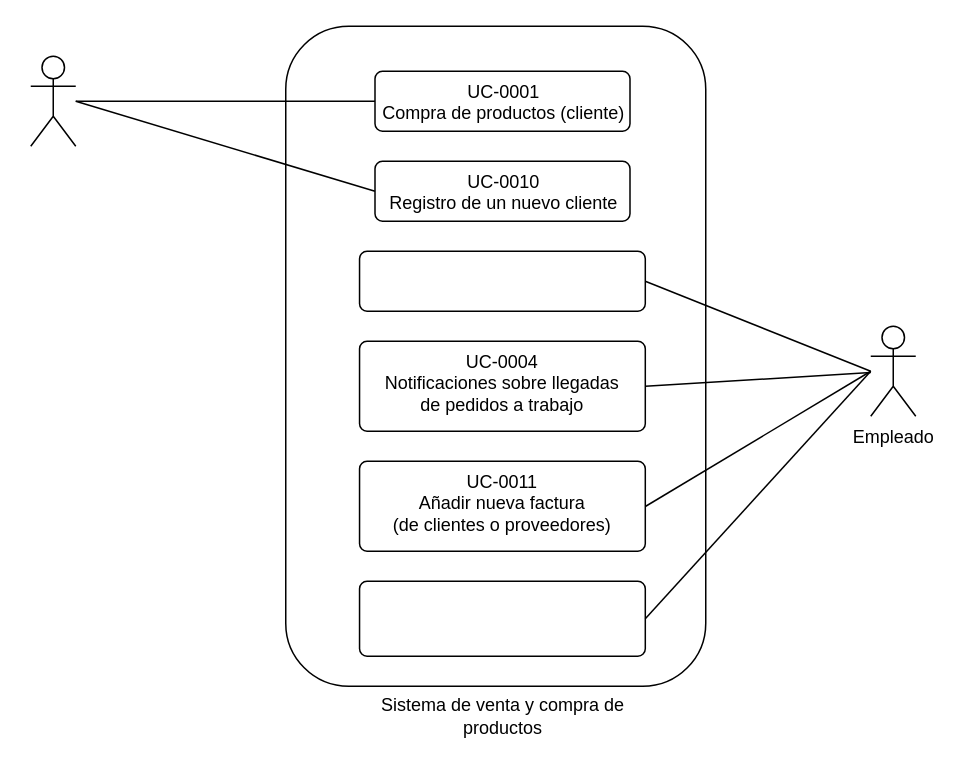
This 960x764 diagram has some shape labels left out. Each missing label, with the centre of its shape:
Cliente: (x=52, y=100)
UC-0002 Solicitar productos a proveedores: (x=501, y=280)
UC-0015 Compra en el carrito de alertas: (x=501, y=618)
